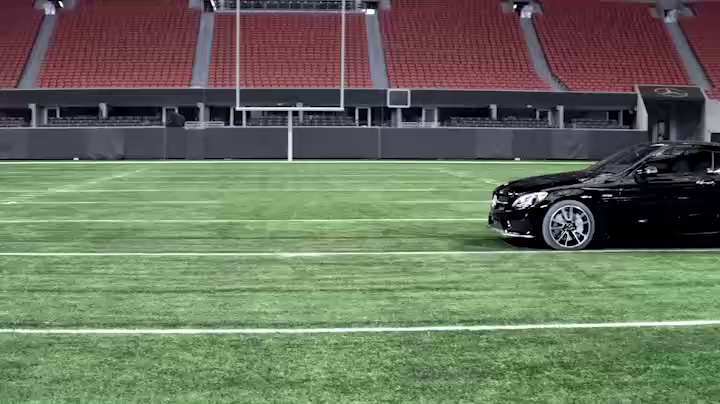amg: (486, 136, 720, 252)
